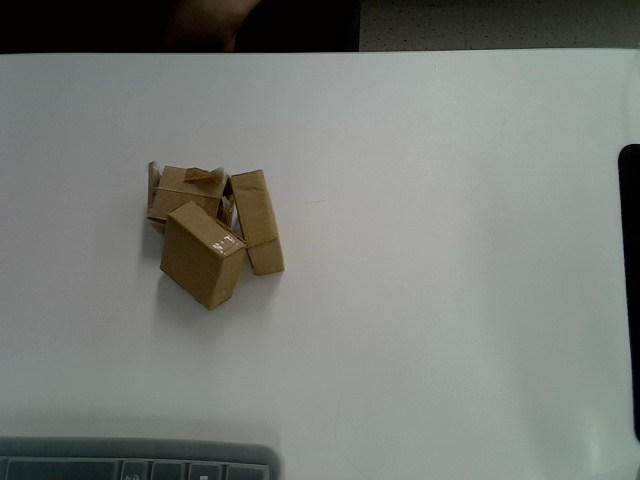defect: (146, 161, 233, 242)
normal: (159, 202, 247, 310), (230, 169, 286, 276)
